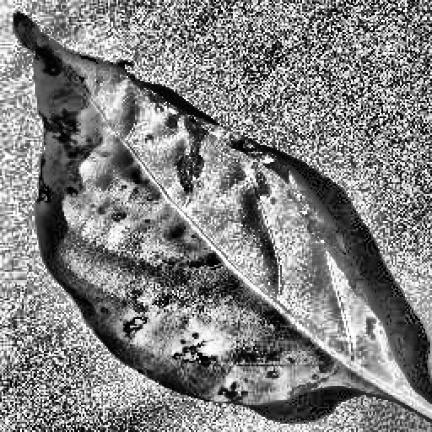leaf: (14, 14, 430, 418)
